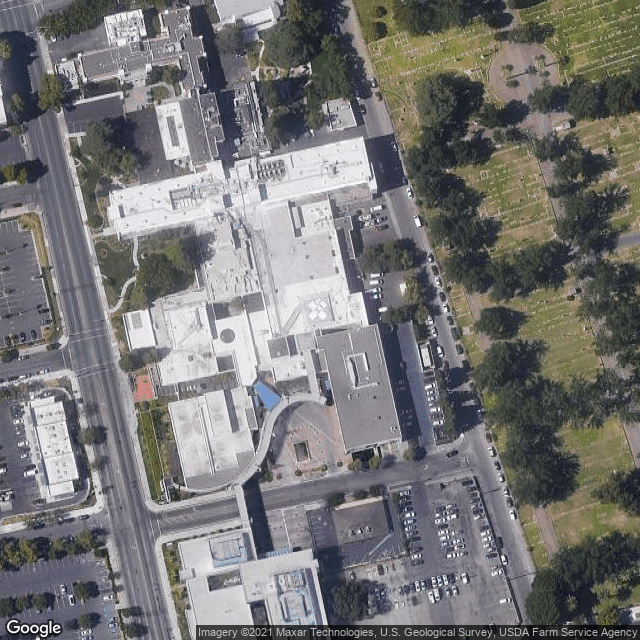Helipad: (300, 285, 336, 327)
